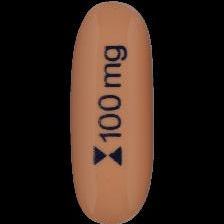54868-6232: (0, 0, 224, 224)
